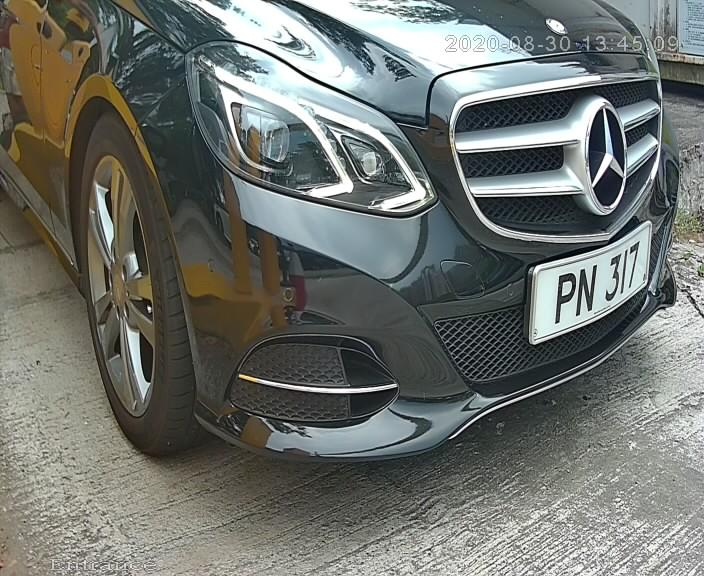Car: (29, 6, 704, 502)
License Plate: (532, 222, 645, 348)
